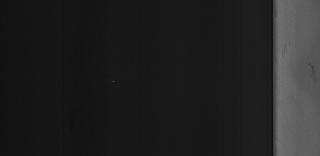water spot: (302, 56, 320, 86)
